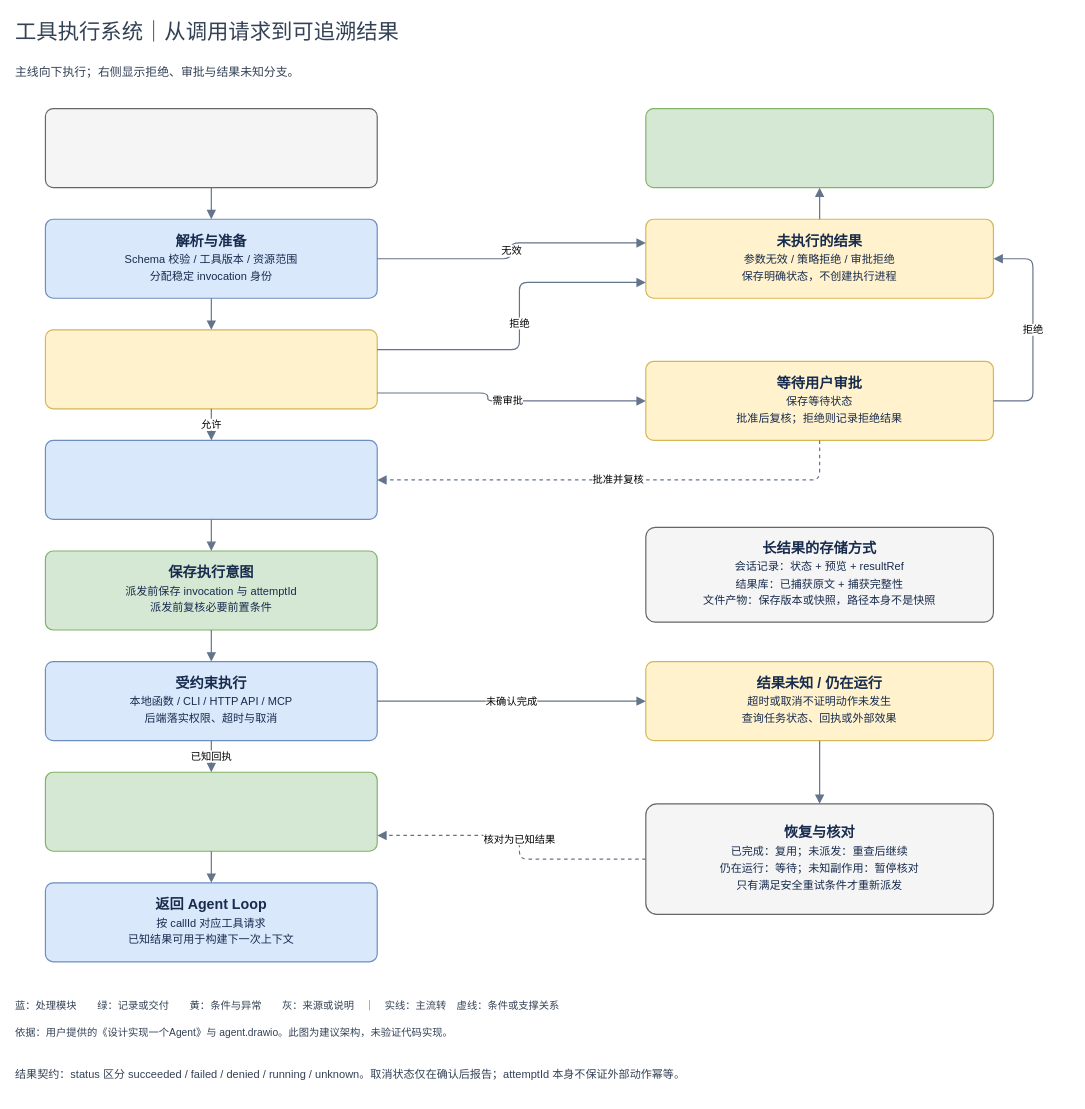
Some shapes in this 1085 by 1109 pixel diagram are drawn without their labels. Here are the shapes that lost their labels. From the top down, the centre of each, then its label:
the point at 210,148: 接收工具调用 name / arguments / callId
the point at 819,148: 返回未执行结果 保存拒绝或校验错误状态 交给下一次上下文构建
the point at 210,369: 权限决策 允许 / 需要审批 / 拒绝 批准必须绑定本次动作与范围
the point at 210,479: 执行调度 依赖与资源锁 / 并发额度 / 取消 审批等待不占用执行资源
the point at 210,811: 保存回执与统一结果 callId / status / error / resultRef 有限预览、截断标记与完整输出引用
